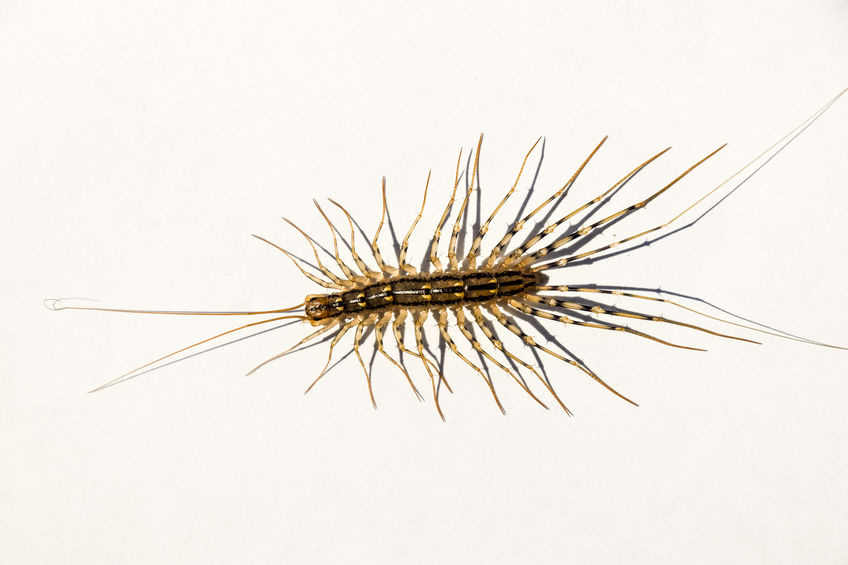centipede: (60, 150, 848, 421)
